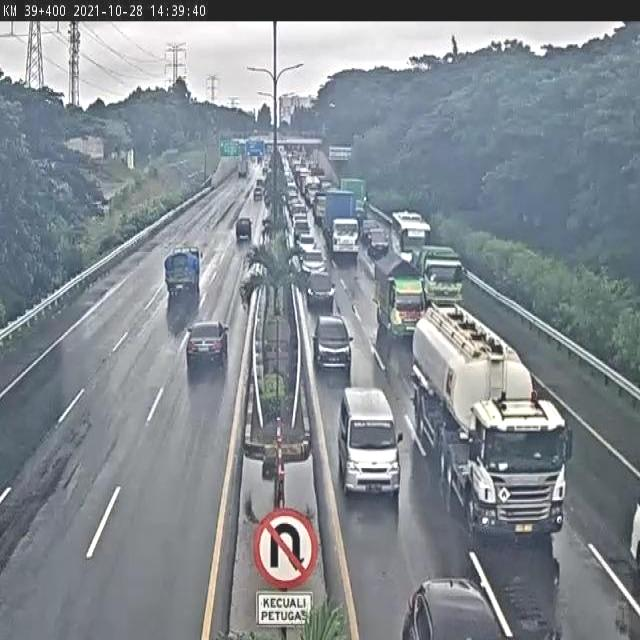Bus: (413, 248, 468, 307), (392, 213, 432, 264)
Car: (404, 575, 501, 640), (311, 313, 354, 377), (184, 317, 232, 370), (306, 272, 339, 309), (300, 249, 327, 277), (368, 225, 390, 255), (234, 215, 253, 248), (294, 234, 316, 251), (252, 187, 265, 200)
Truck: (414, 302, 574, 540), (372, 255, 427, 342), (325, 190, 359, 256), (165, 246, 204, 302)
Van: (338, 384, 406, 506)
